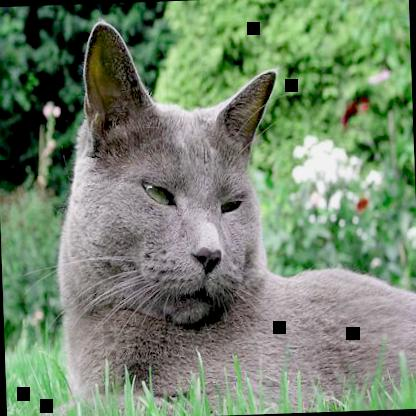cat: (16, 12, 415, 415)
